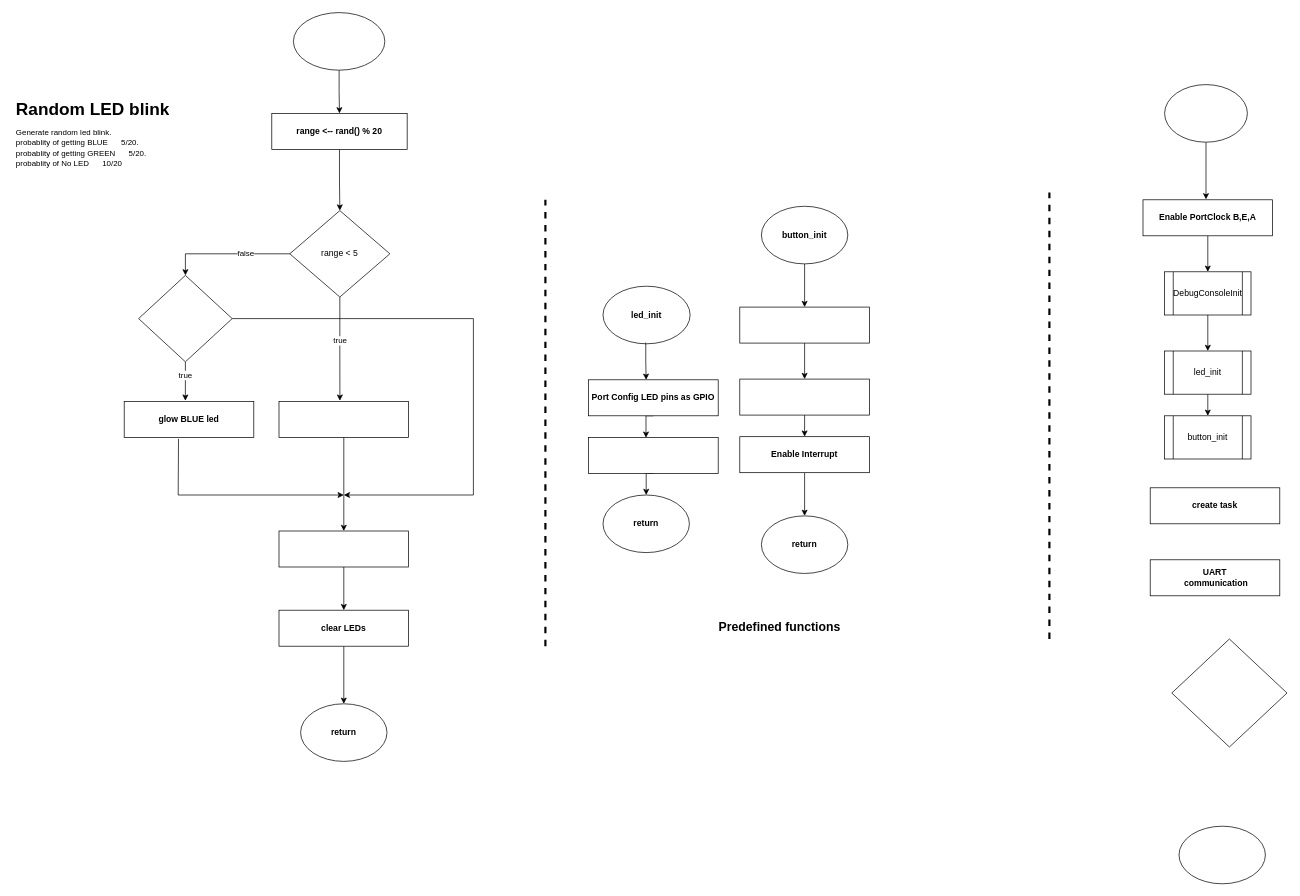
Image size: 1300x896. Some labels were removed from this diagram. The box of each missing label's shape, as (x1, y1, x2, y2) in pixels:
delay: (278, 530, 409, 567)
glow GREEN led: (278, 401, 409, 437)
Gpio Config LED pins as output: (588, 437, 718, 473)
led_blink: (293, 12, 385, 70)
range > 15: (138, 275, 232, 362)
Set pin as input GPIO config: (739, 378, 869, 415)
Set pins as PORT config: (739, 306, 869, 343)
start: (1164, 84, 1247, 142)
stop: (1178, 825, 1265, 884)
